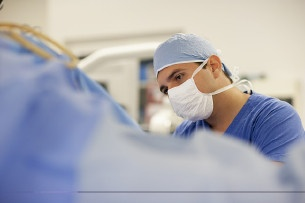Mask: (157, 70, 211, 123)
